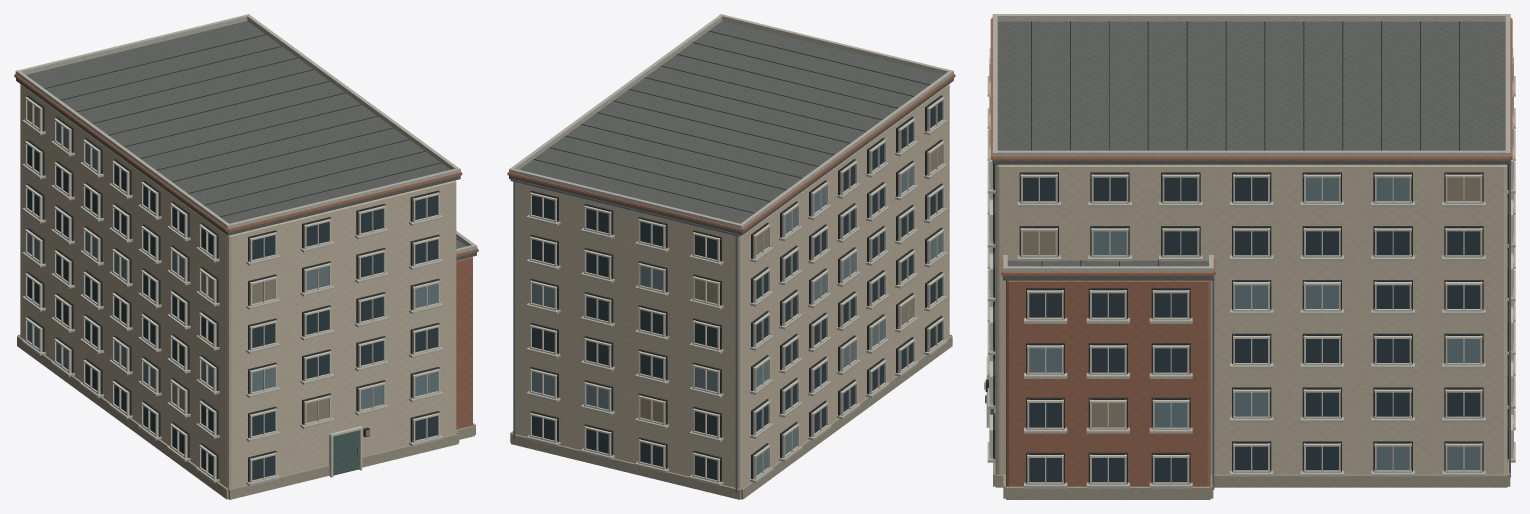
File: RES_MID_2x3_005.glb
The picture shows the model from 3 angles, left to right: view 1: azimuth 30°, elevation 25°; view 2: azimuth 150°, elevation 25°; view 3: azimuth 270°, elevation 25°; orthographic projection. The views are drawn at different scales.
Parts seen in each view (by area): view 1: RES_MID_2x3_005_Visual; view 2: RES_MID_2x3_005_Visual; view 3: RES_MID_2x3_005_Visual.
Part boxes in pixels (x1,y1,x2,y2): RES_MID_2x3_005_Visual: (14,14,478,499); RES_MID_2x3_005_Visual: (507,14,955,499); RES_MID_2x3_005_Visual: (984,14,1515,499).
Size of what is drawn, in the model's own units: 3.59 by 3.61 by 5.19.
12 materials, 6 textured.
